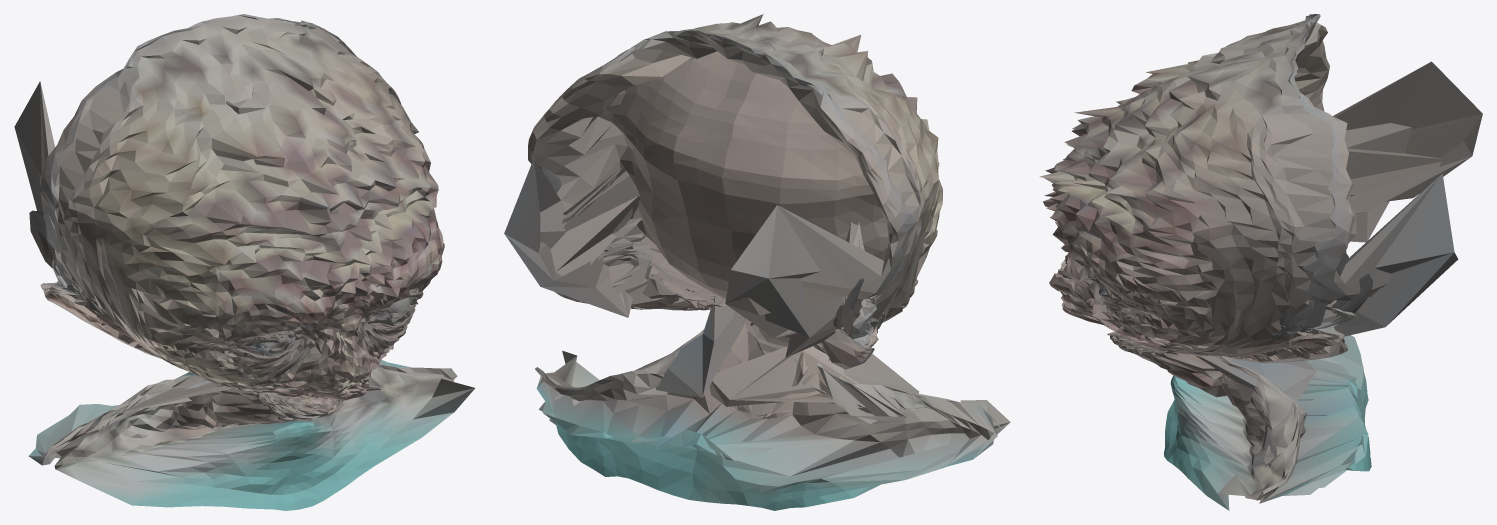
Rendered from chibi_textured_mesh.obj.
3 views of the same model, side by side, from view 1: azimuth 30°, elevation 25°; view 2: azimuth 150°, elevation 25°; view 3: azimuth 270°, elevation 25° (orthographic). The views are drawn at different scales.
Size of the model in its own units: 0.327 by 0.3176 by 0.3099.
